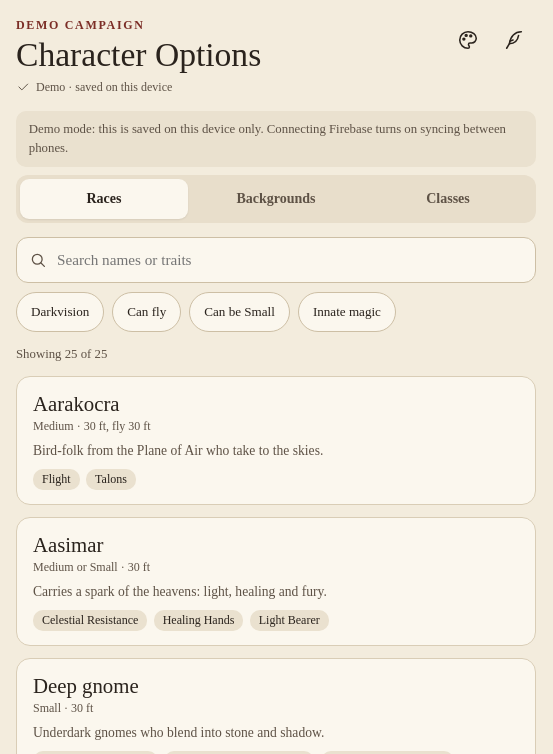
Test: Campaign Hub (demo mode) › lists races and filters them
The width and height of the screenshot is (553, 754).
Check: the heading "Character Options" is shown, box [16,37,261,72]
Click the button "Can fly".
click(147, 312)  # box [112,292,181,332]
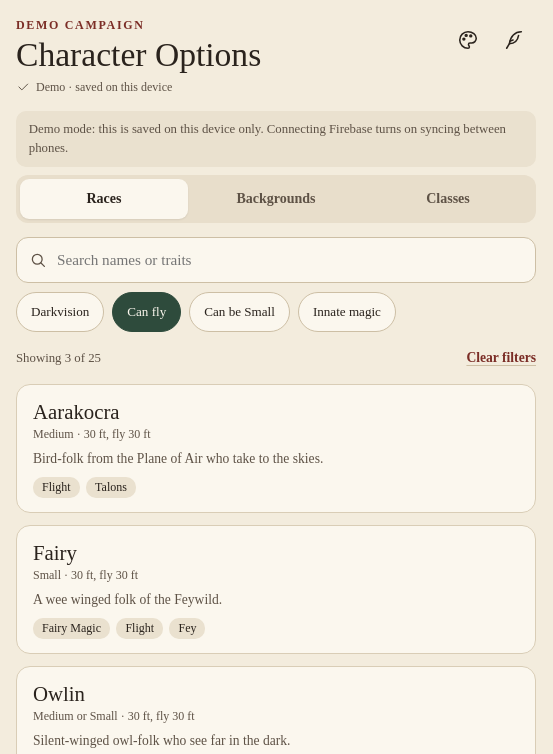
Check: the text "Aarakocra" is shown, box [33,400,120,423]
Check: the text "Showing 3 of 25" is shown, box [16,349,101,367]
Click the button "Clear filters".
click(501, 358)  # box [466,342,536,374]
(page scrolled)
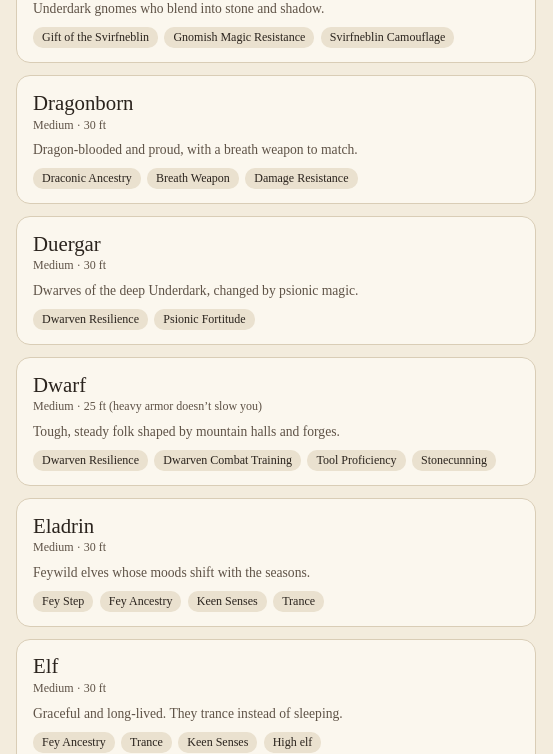
Check: the text "Dwarf" is shown, box [33,372,86,396]
